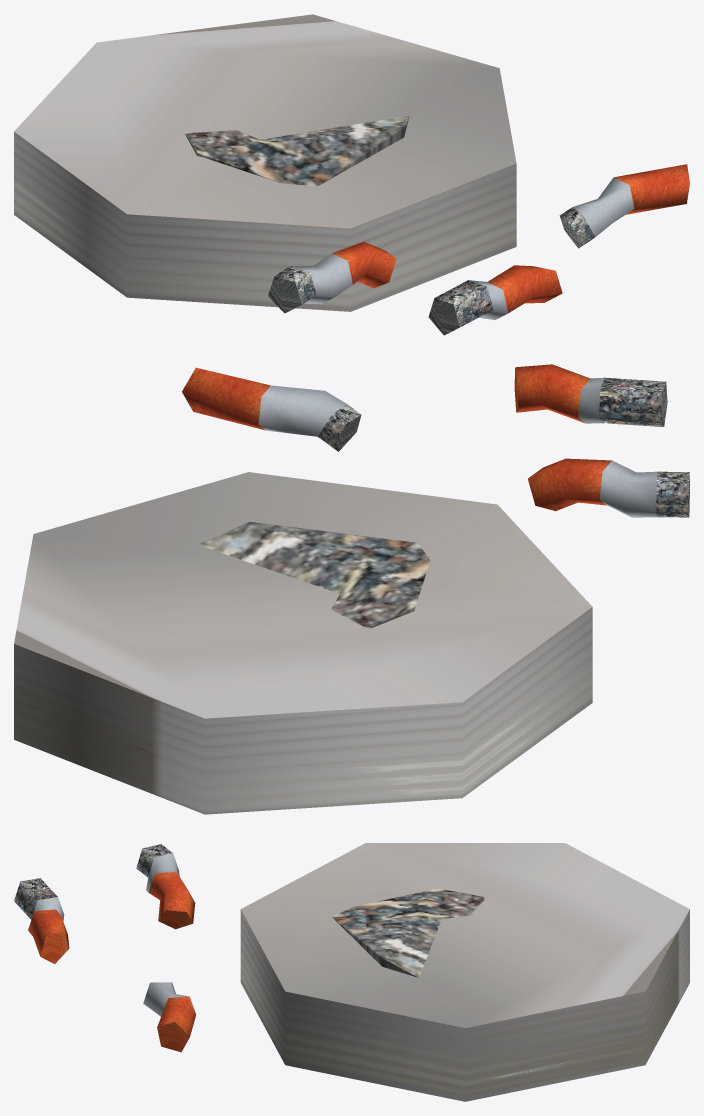
Rendered from cigarette.FBX.
3 renders of one model, top to bottom at view 1: azimuth 30°, elevation 25°; view 2: azimuth 150°, elevation 25°; view 3: azimuth 270°, elevation 25°, orthographic. The views are drawn at different scales.
Parts seen in each view (by area): view 1: Cylinder001, Box001, Object002, Object006, Object005, Object003, Cylinder002, Cylinder003, Object004, Object001, Cylinder004; view 2: Cylinder001, Box001, Object002, Cylinder002, Object003, Object005, Object006, Cylinder003, Object004, Object001, Cylinder004; view 3: Cylinder001, Box001, Object003, Object002, Object005, Object006, Cylinder002, Cylinder003, Object004.
Part boxes in pixels (x1,y1,x2,y2): Cylinder001: [14, 14, 516, 311]; Box001: [184, 116, 409, 186]; Object002: [614, 164, 689, 214]; Object006: [428, 280, 493, 335]; Object005: [487, 265, 562, 313]; Object003: [332, 241, 396, 288]; Cylinder002: [573, 177, 634, 236]; Cylinder003: [289, 253, 352, 304]; Object004: [268, 266, 316, 313]; Object001: [559, 207, 594, 248]; Cylinder004: [469, 280, 507, 319]; Cylinder001: [14, 472, 592, 814]; Box001: [198, 522, 430, 629]; Object002: [182, 367, 270, 430]; Cylinder002: [258, 385, 347, 439]; Object003: [528, 458, 611, 511]; Object005: [514, 364, 590, 423]; Object006: [599, 377, 667, 426]; Cylinder003: [599, 460, 657, 517]; Object004: [656, 471, 689, 517]; Object001: [318, 404, 361, 451]; Cylinder004: [578, 377, 604, 423]; Cylinder001: [240, 843, 689, 1101]; Box001: [332, 888, 486, 977]; Object003: [148, 872, 195, 929]; Object002: [157, 996, 196, 1052]; Object005: [28, 909, 69, 963]; Object006: [14, 878, 57, 919]; Cylinder002: [143, 983, 189, 1016]; Cylinder003: [146, 853, 179, 892]; Object004: [136, 844, 172, 877].
Bounding box in the file's own units: 61.6 × 13.81 × 89.46.
Materials: 4 (4 with a texture image).
